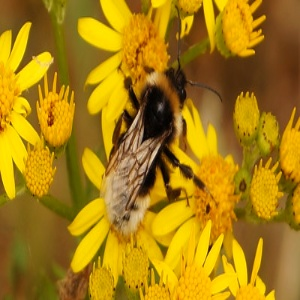bee: (104, 51, 206, 239)
